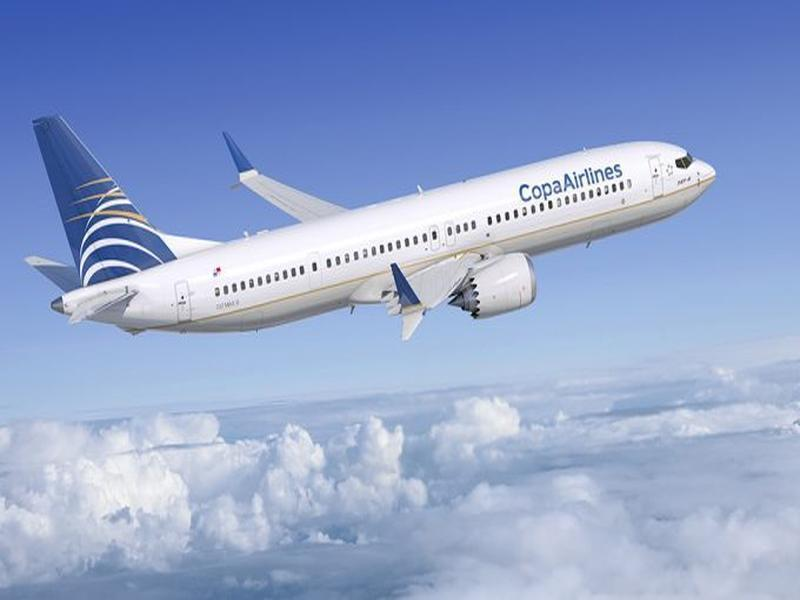737-MAX: (8, 99, 728, 348)
